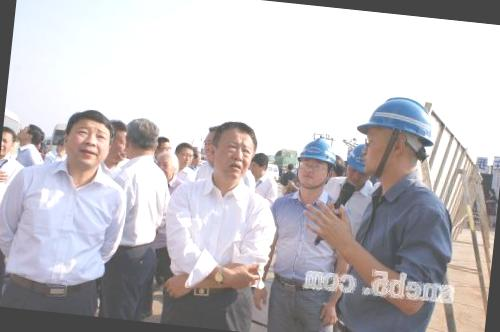no_helmet: (62, 104, 116, 170), (205, 118, 258, 180), (119, 114, 160, 166), (106, 114, 138, 161), (152, 152, 181, 186), (14, 120, 44, 148), (172, 139, 198, 171), (246, 150, 272, 179), (1, 125, 17, 157), (154, 136, 174, 157)
